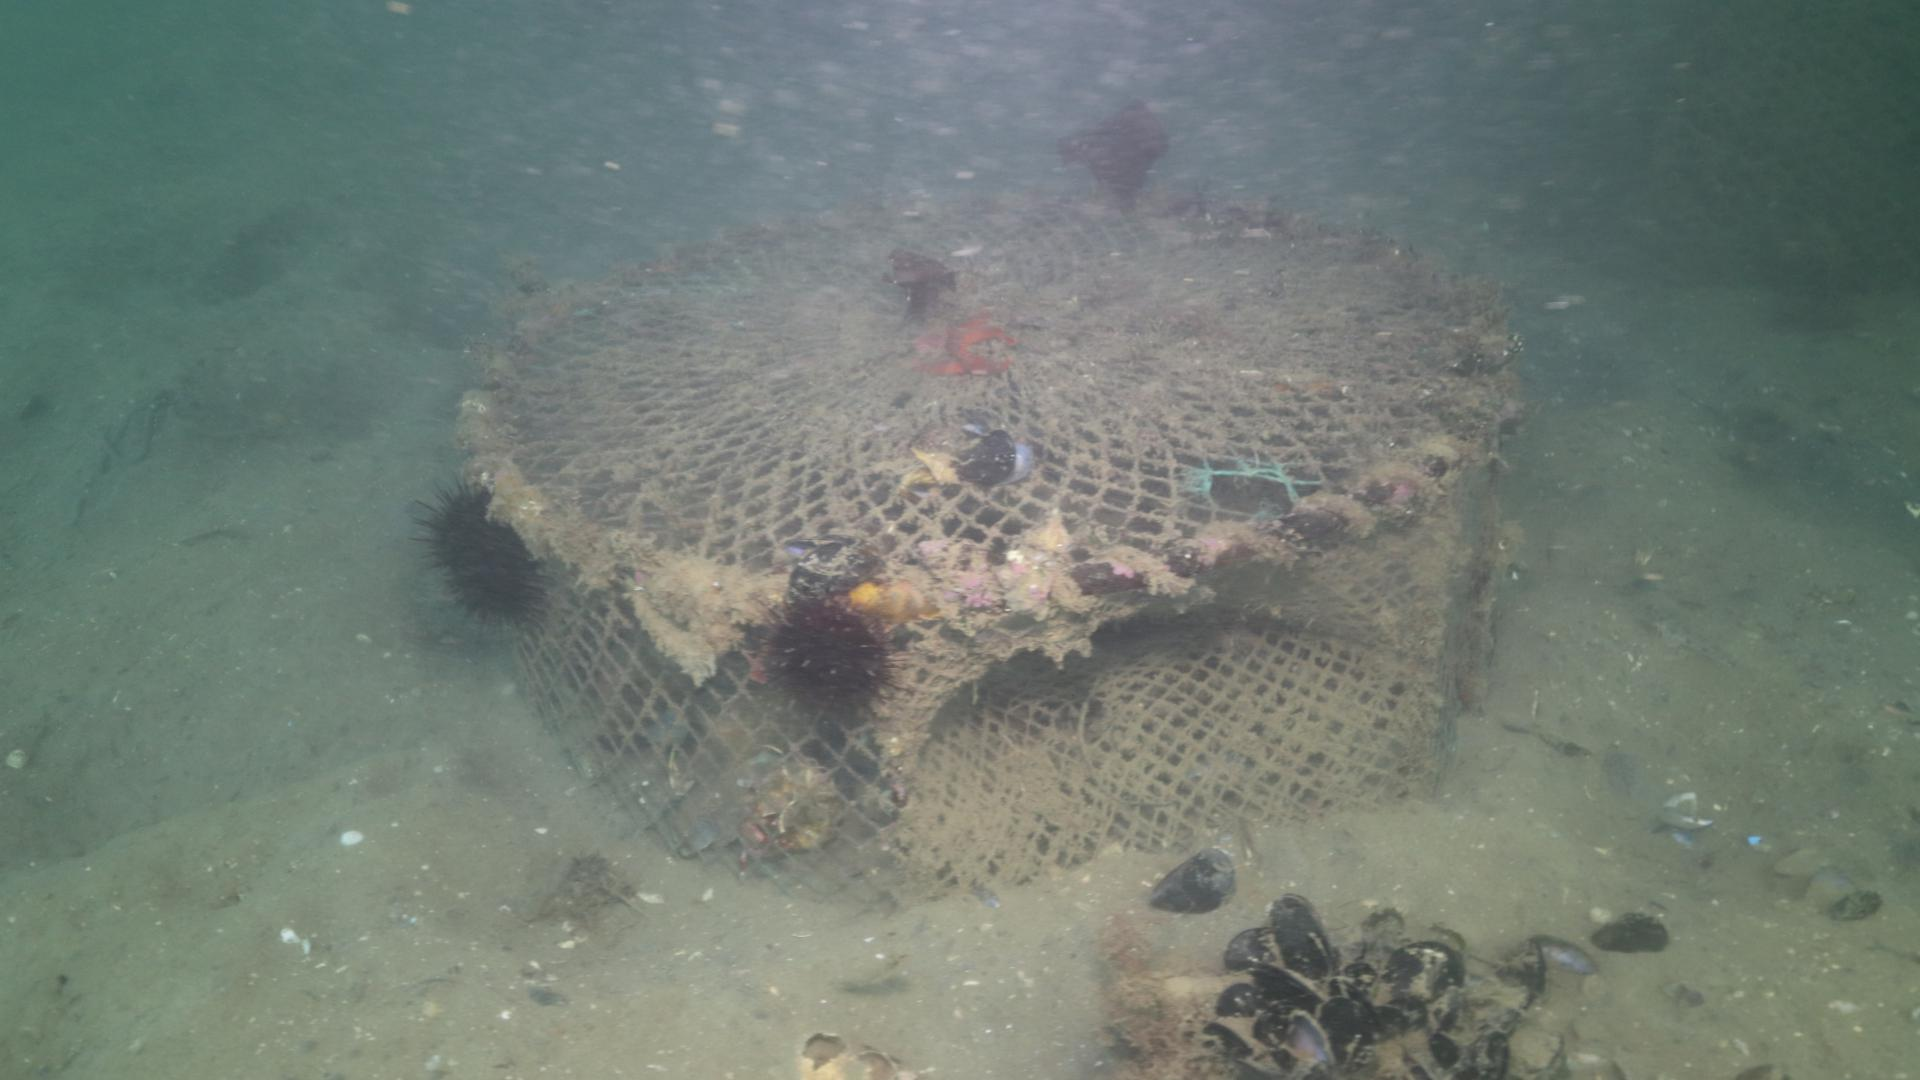circular fish trap: (454, 189, 1515, 916)
